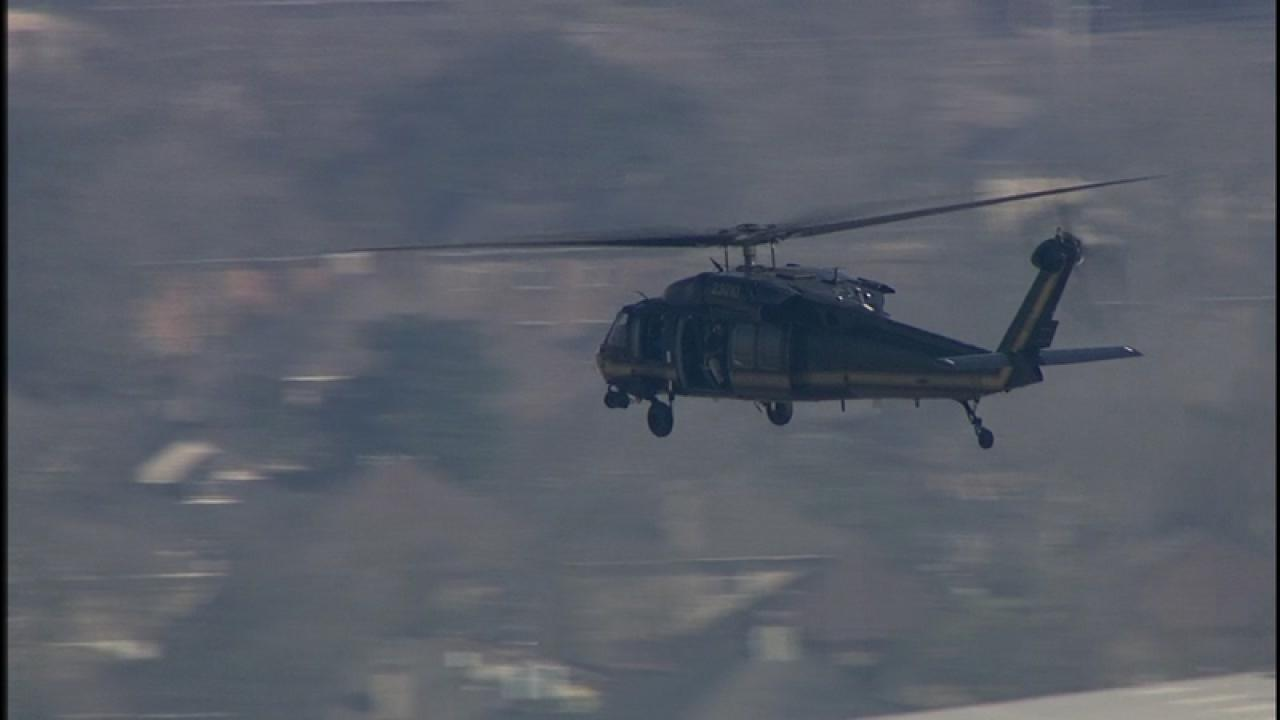Helicopter: (332, 165, 1198, 462)
